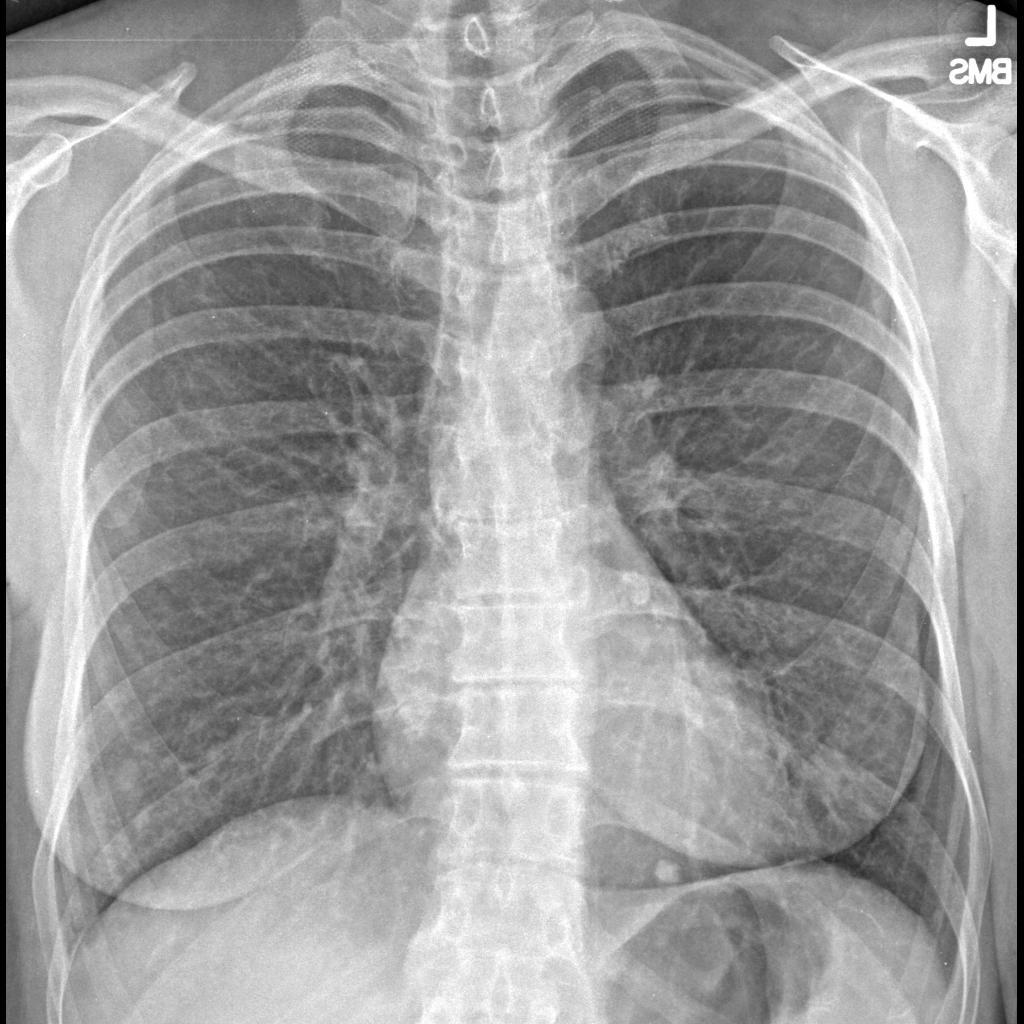Nodule: (651, 855, 689, 910)
